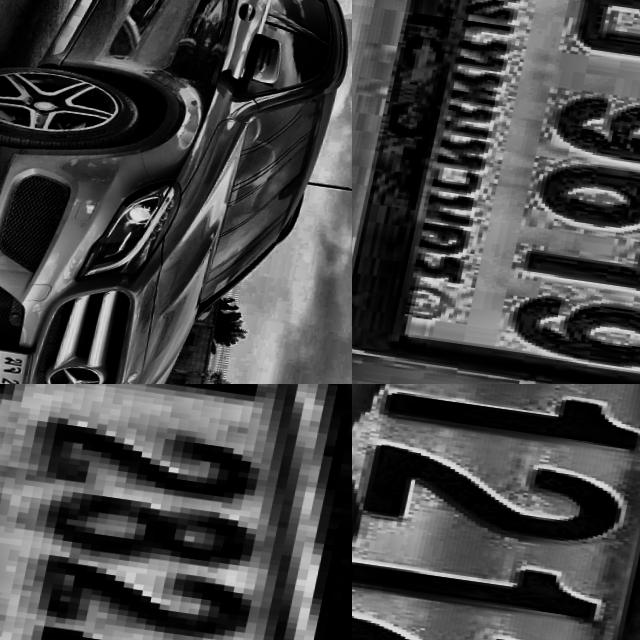license-plate: (352, 0, 640, 384), (0, 384, 352, 640), (352, 384, 640, 640), (0, 342, 43, 384)
